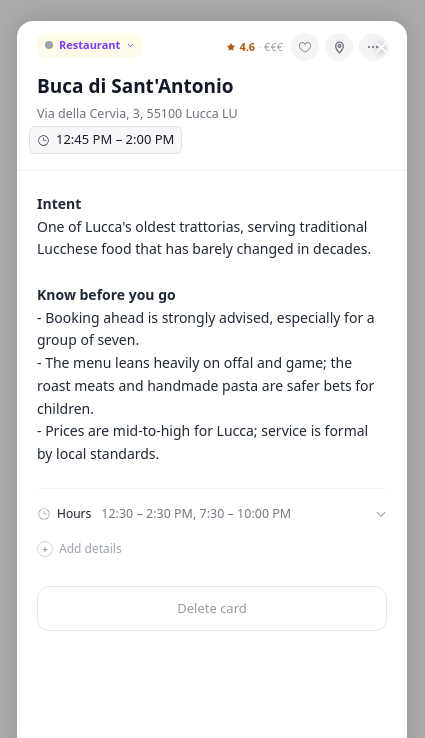
CardBottomSheet — the designer-audit surface (6 Oct 2026) › a visit that fits says nothing up top; the week is a quiet Hours row at the bottom (7 Oct 2026)
The image size is (425, 738).
Click the button with aria-label "Opening hours": coordinates (212, 515) [37, 505, 387, 524]
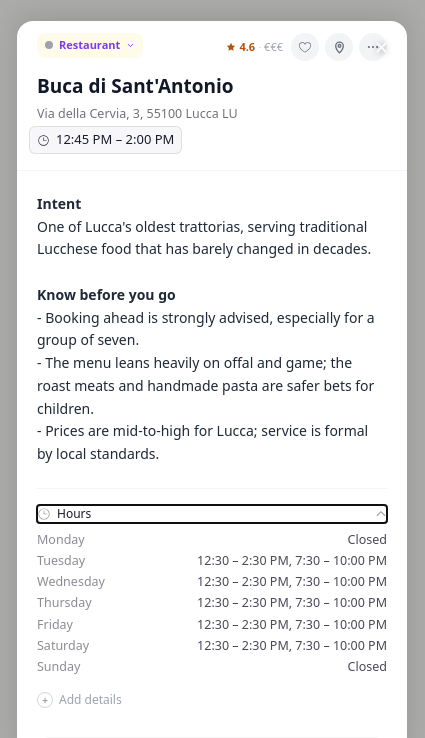
Result: the button with aria-label "Opening hours" is expanded at [37, 505, 387, 523]
Result: the text "Closed" is shown 2 times at [348, 531, 387, 548]; [348, 658, 387, 676]
